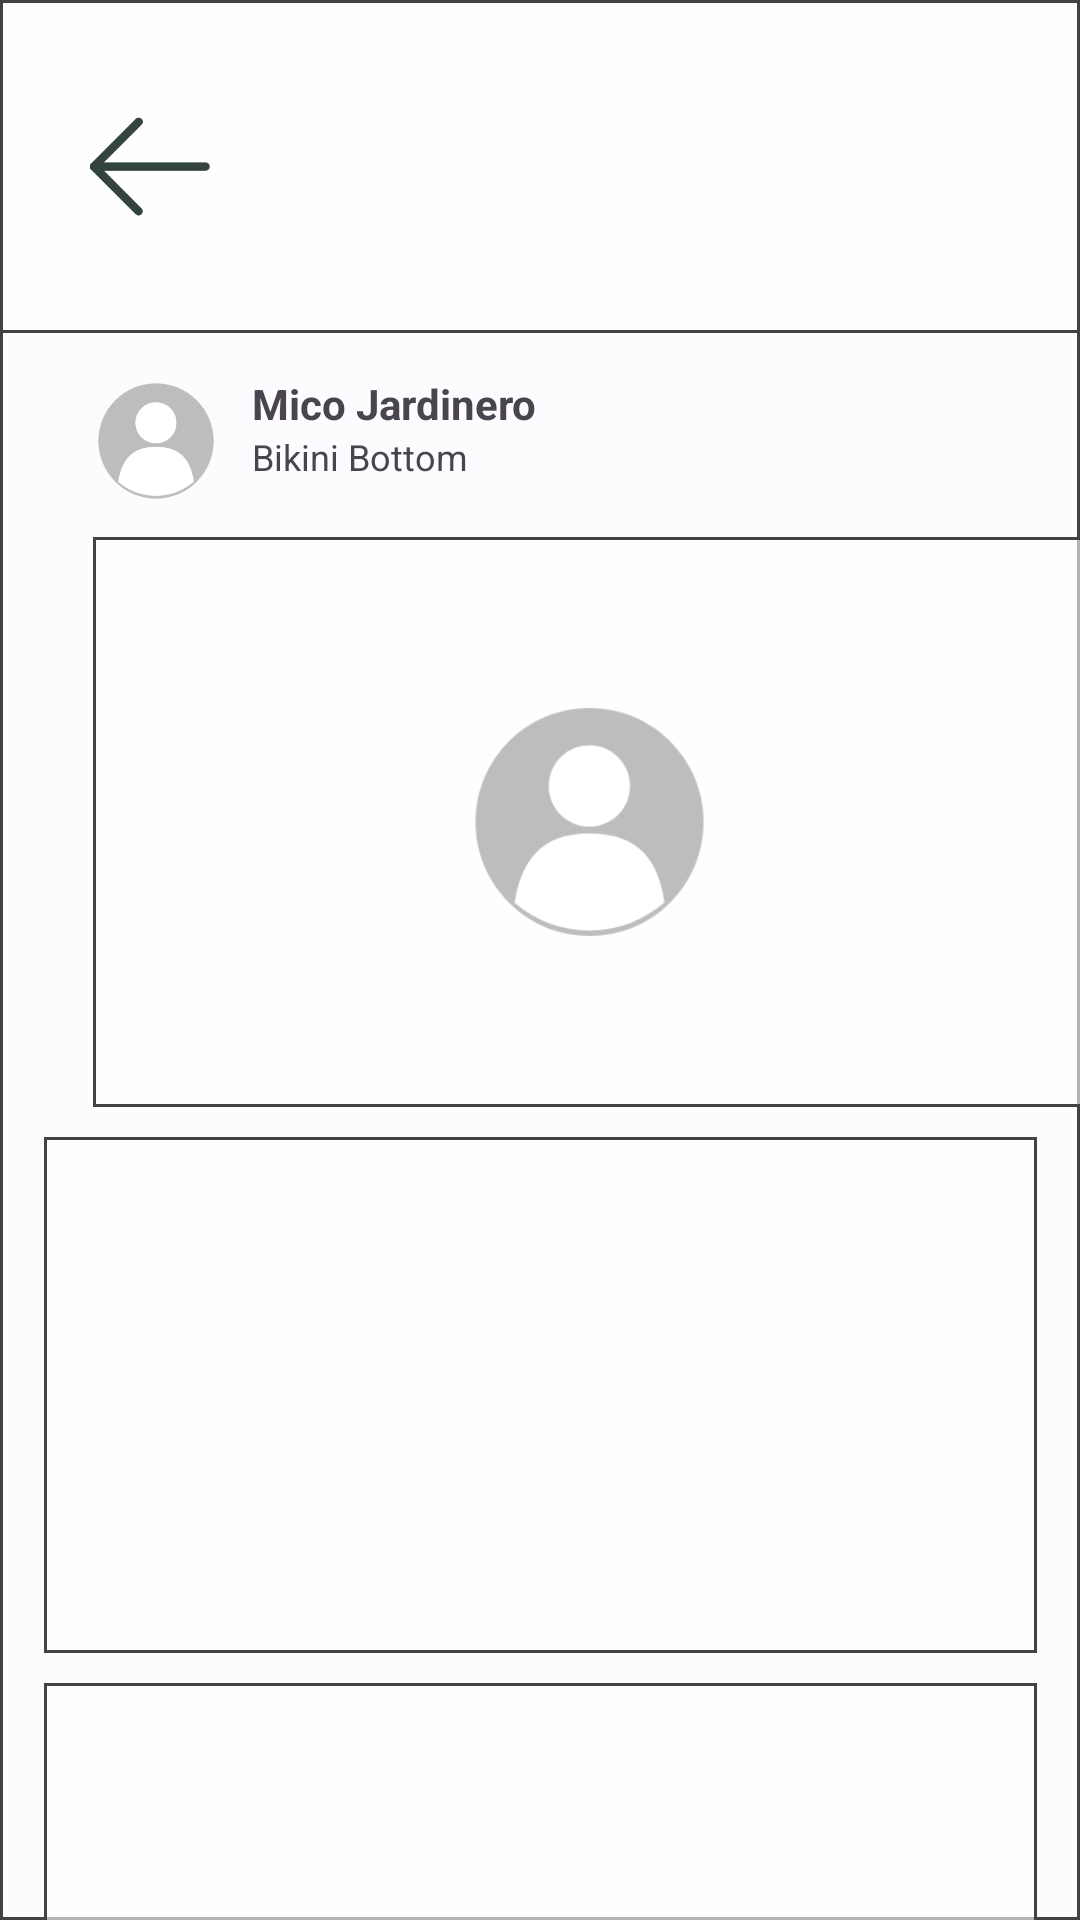

Named icons in this screenshot (1080 x 1920) and their centers, point (x, y):
back profile: point (150, 166)
